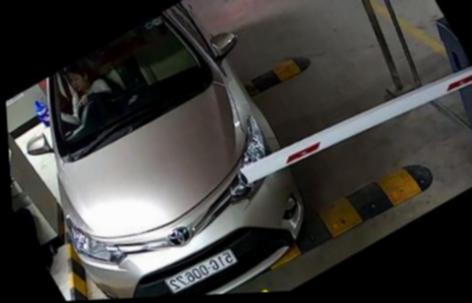License_Plate: (157, 242, 242, 296)
